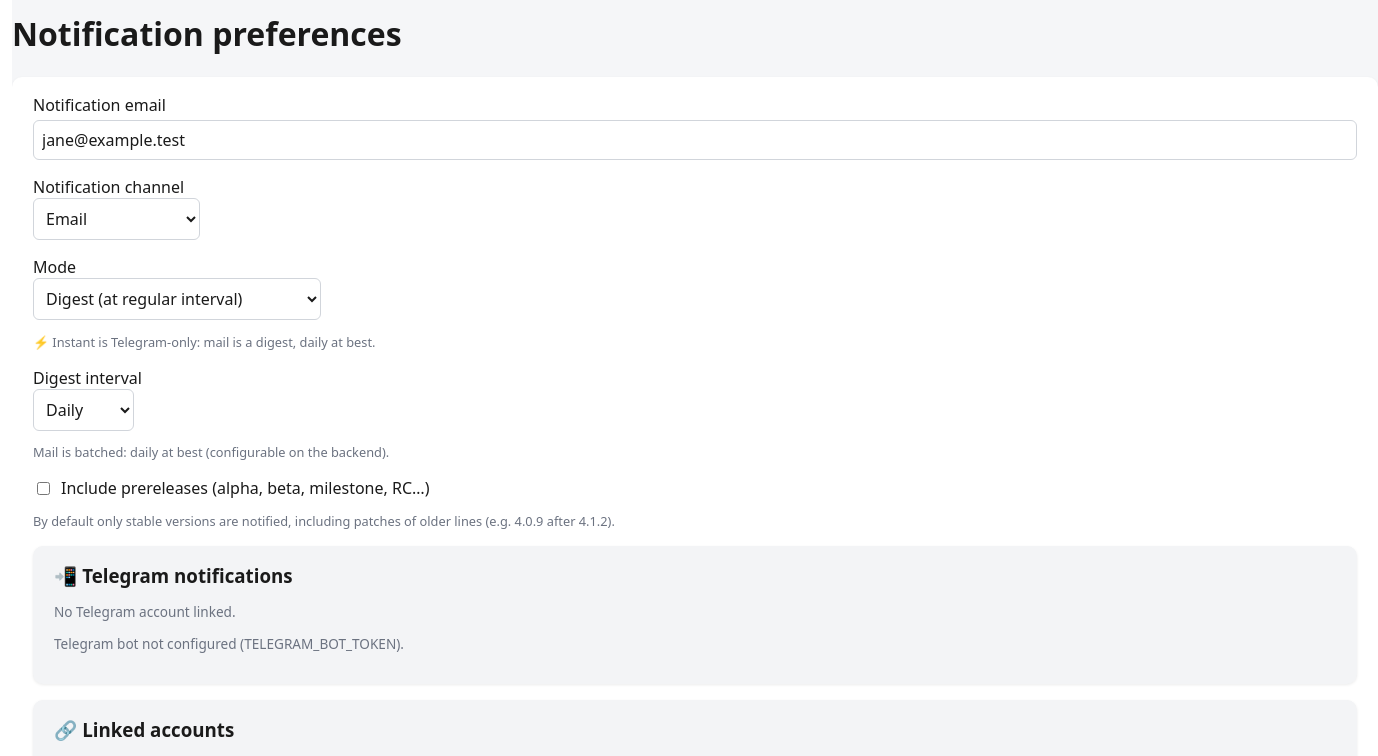
Test: PreferencesComponent › notification settings › saves the edited preferences without locale and theme
Replace the text in the field labelled "Notification email" with "new@example.test". click: (695, 140)
box: left=33, top=120, right=1357, bottom=160
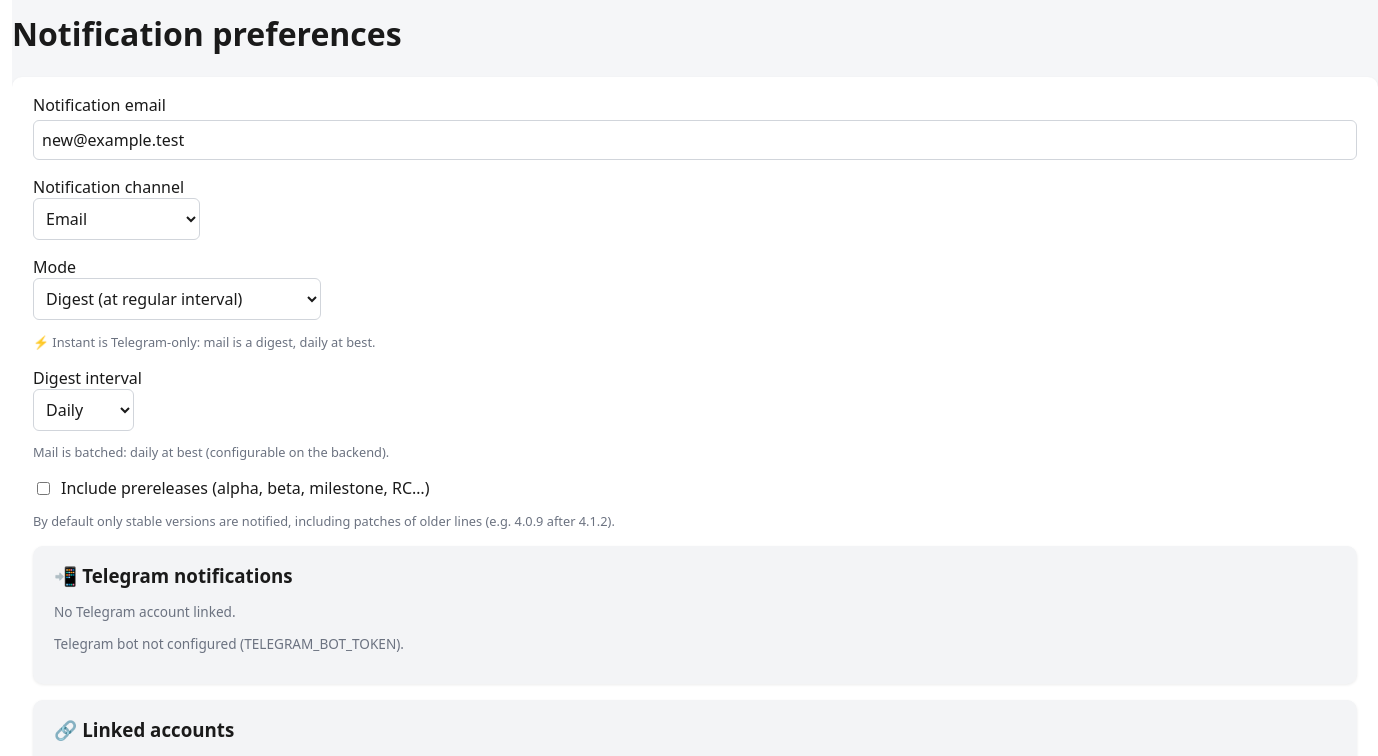
Click the checkbox labelled "Include prereleases (alpha, beta, milestone, RC…)". click: (44, 488)
box: left=37, top=482, right=50, bottom=495
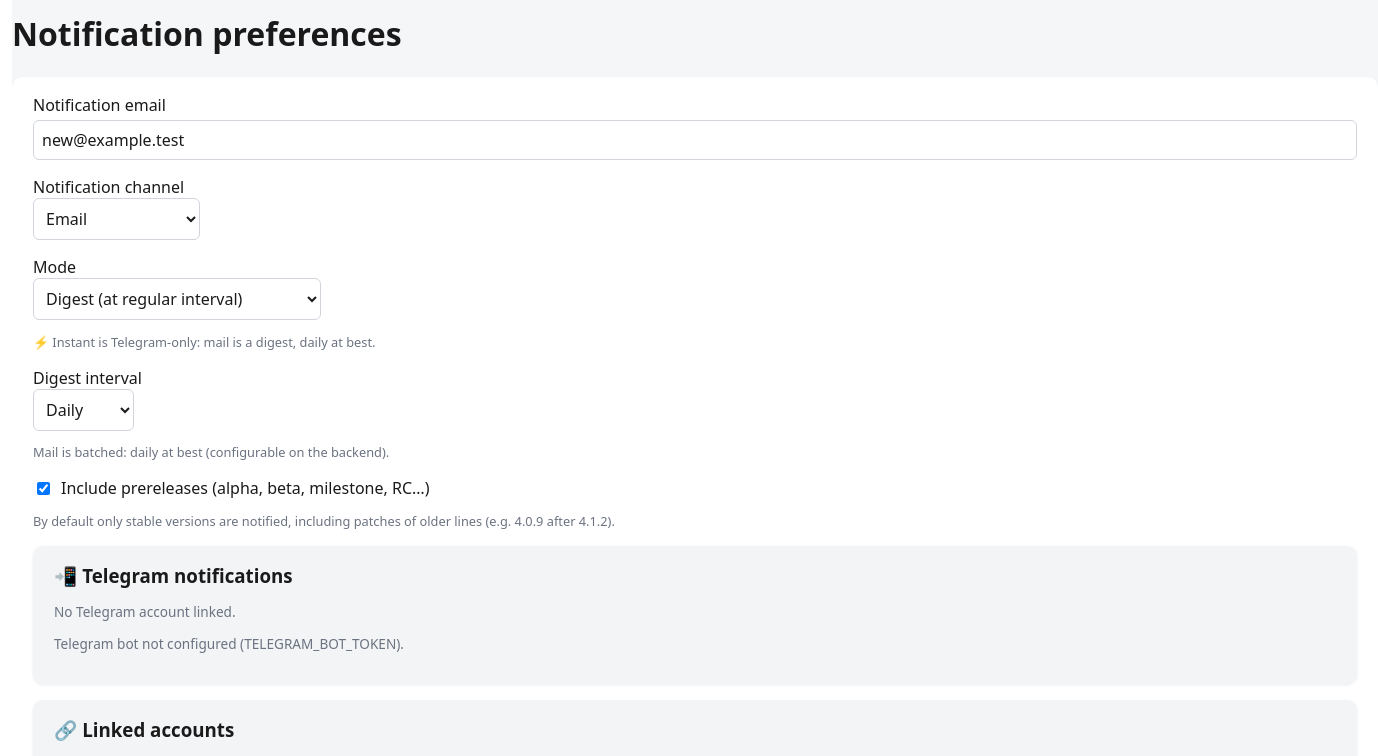
Select "Weekly" in the dropdown labelled "Digest interval". click: (84, 410)
box: left=33, top=389, right=134, bottom=431
(page scrolled)
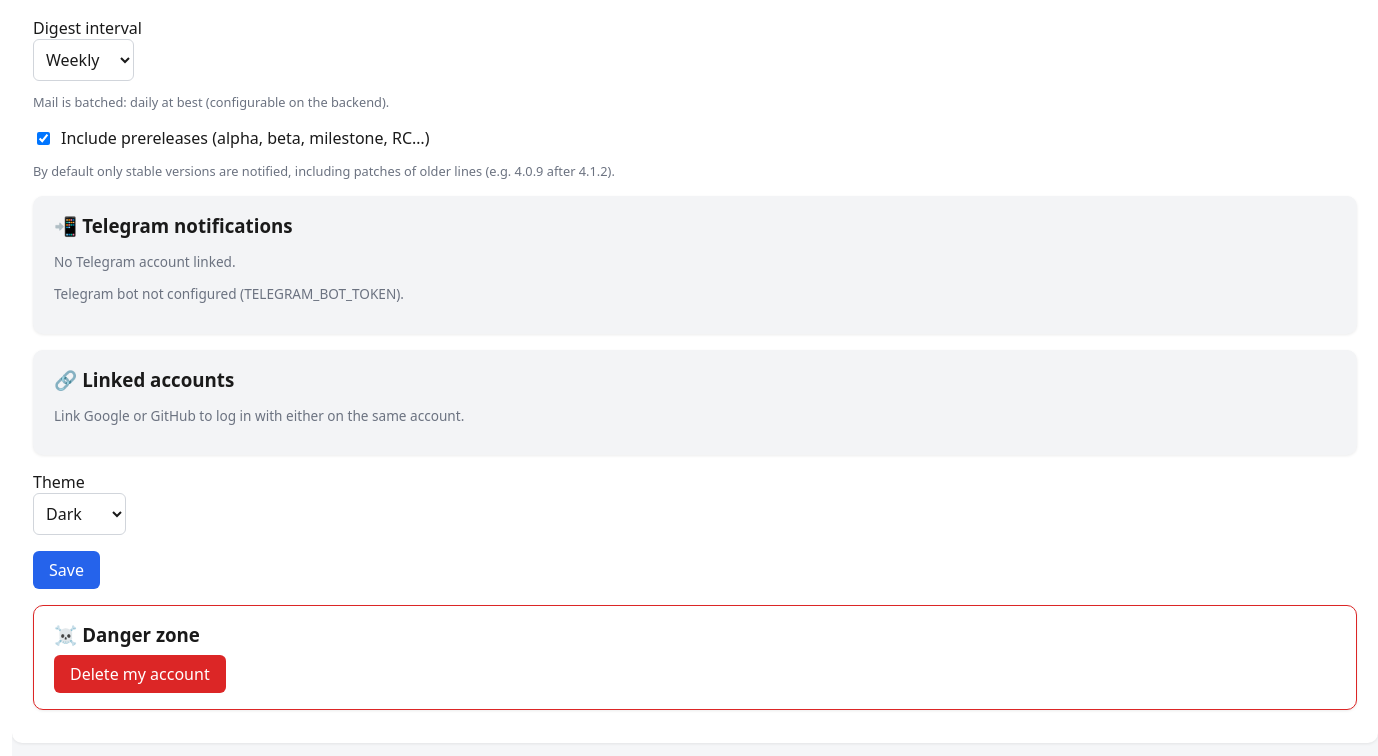
Click the button "Save". click: (66, 570)
box: left=33, top=551, right=100, bottom=589
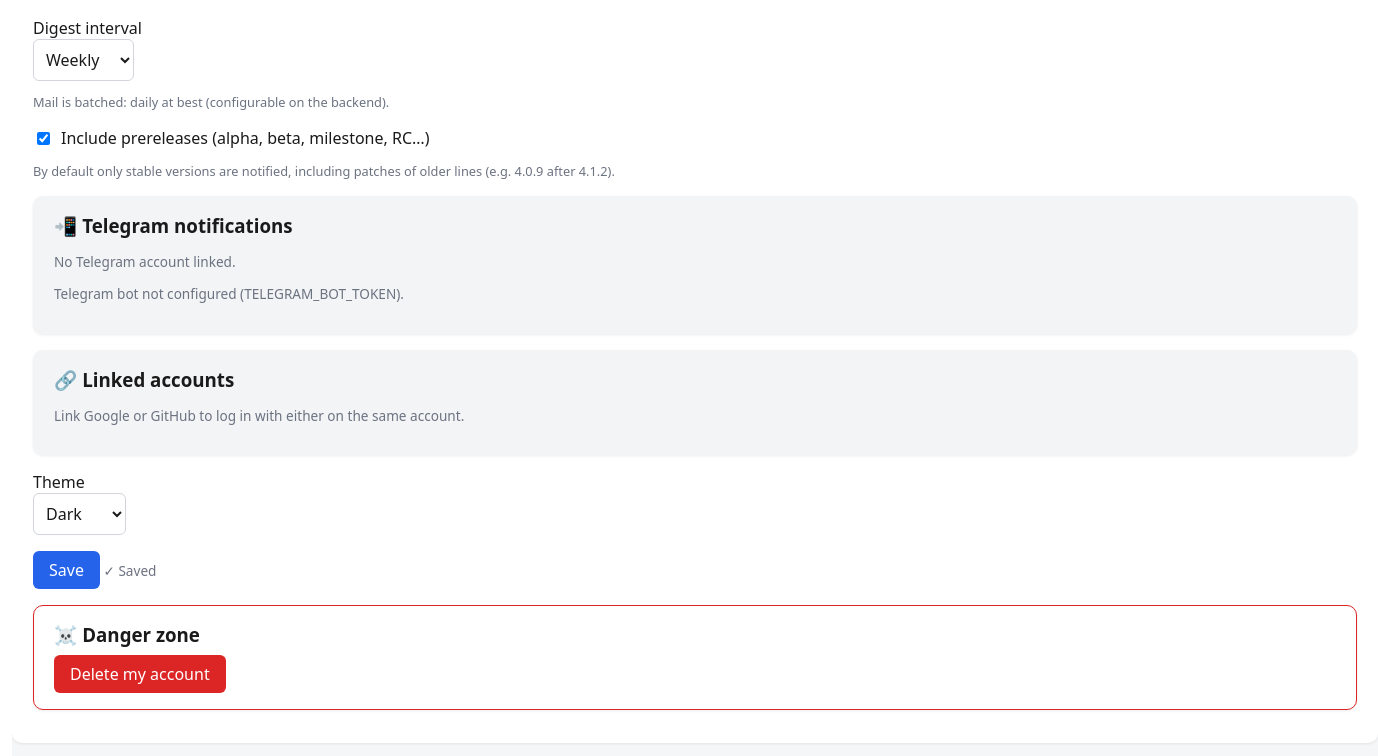
Result: the text "✓ Saved" is shown at left=100, top=561, right=156, bottom=580
